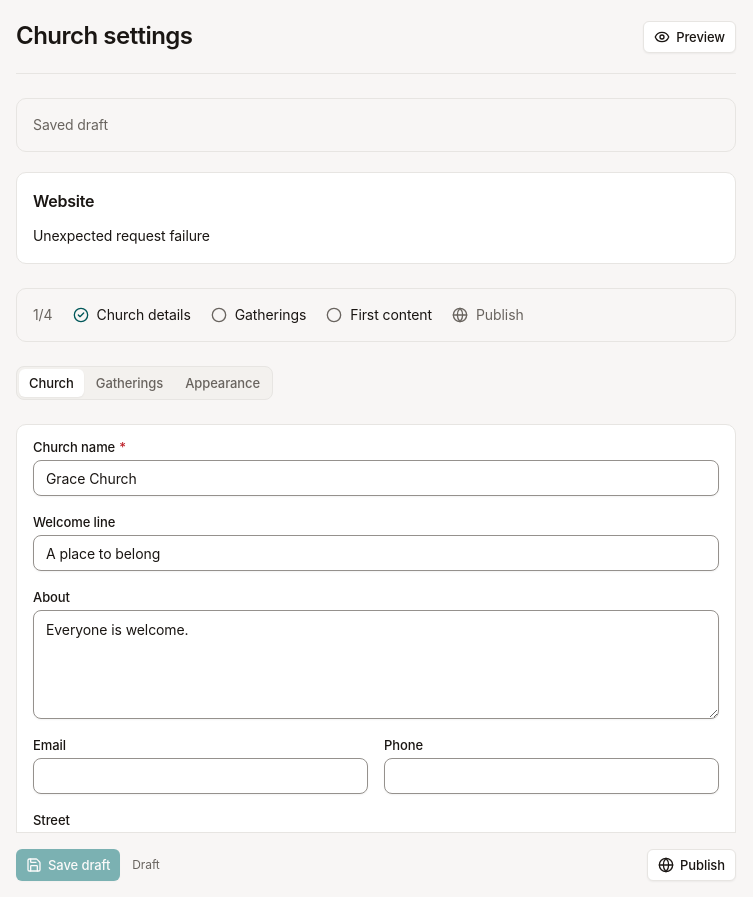
Test case: keeps the editor mounted while bootstrap status refreshes after a save
Click the tab "Appearance".
click(223, 383)  # box [175,369,270,397]
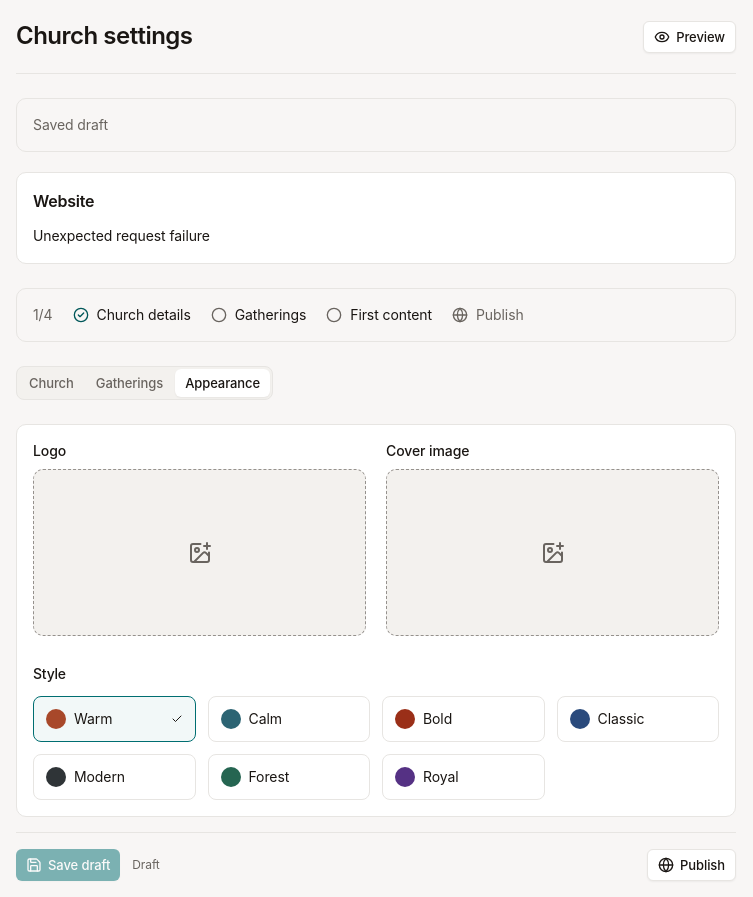
Expected: the button "calm" is shown
Click the button "calm".
click(289, 719)  # box [208,696,370,742]
(page scrolled)
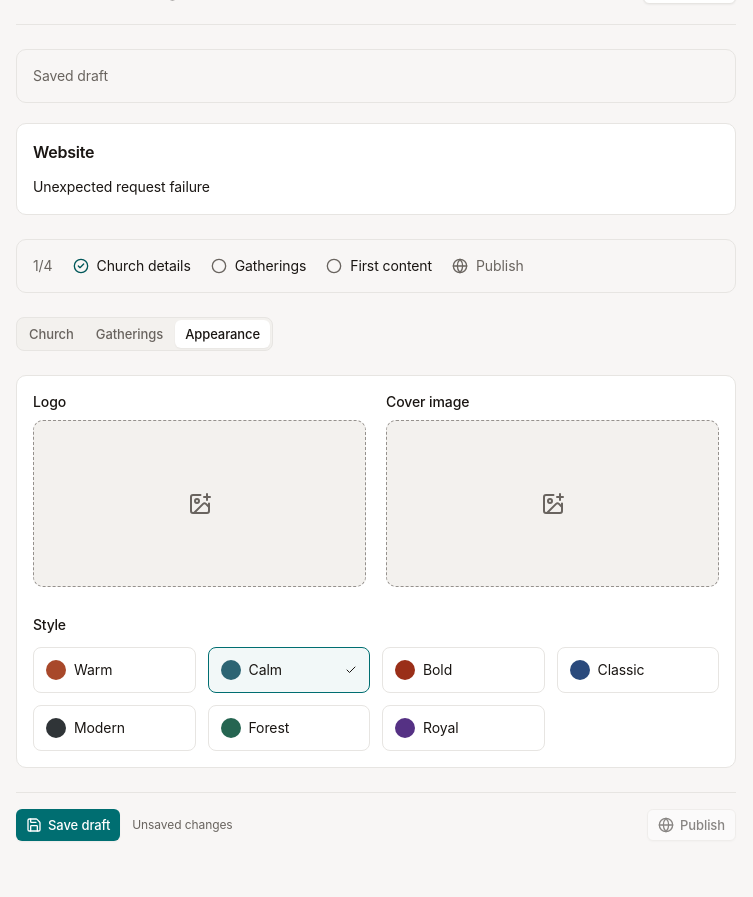
Submit the form, box [16,375,736,857]
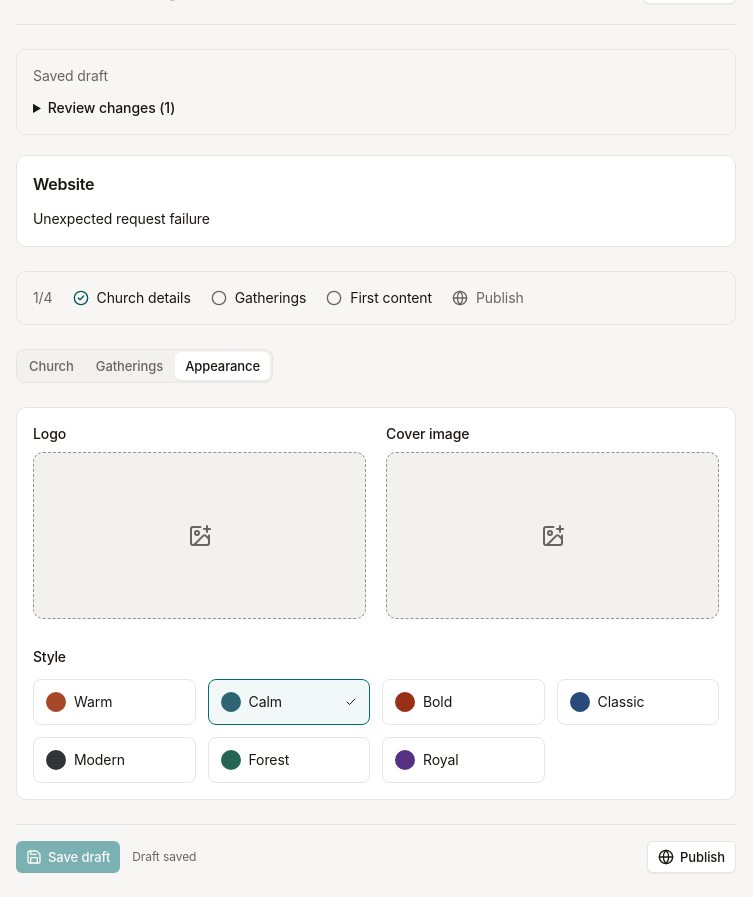
Expected: the message "Draft saved" is shown, [132,849,196,865]
